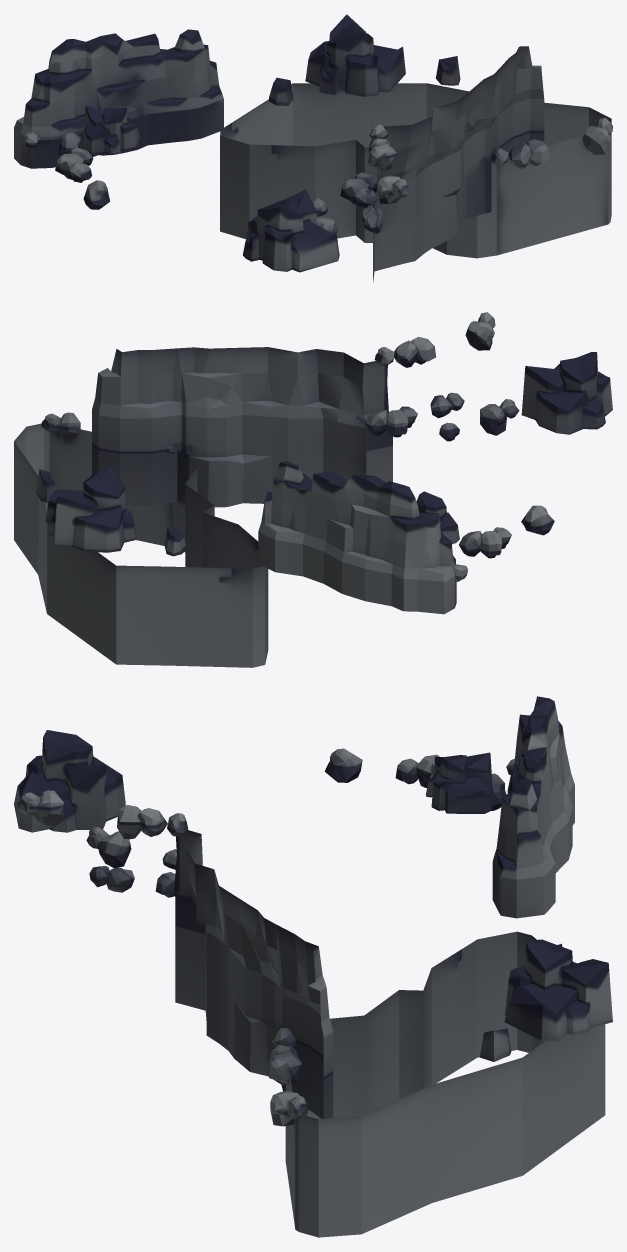
The model's file is Wall_01.FBX.
3 views of the same model, one above another, from view 1: azimuth 30°, elevation 25°; view 2: azimuth 150°, elevation 25°; view 3: azimuth 270°, elevation 25° (orthographic). The views are drawn at different scales.
Visible parts, largest first — view 1: Wall_01; view 2: Wall_01; view 3: Wall_01.
Part boxes in pixels (x1=…): Wall_01: x1=14, y1=14, x2=612, y2=282; Wall_01: x1=14, y1=312, x2=612, y2=667; Wall_01: x1=14, y1=696, x2=612, y2=1237.
Size of the model in its own units: 40.02 by 16.06 by 32.53.
